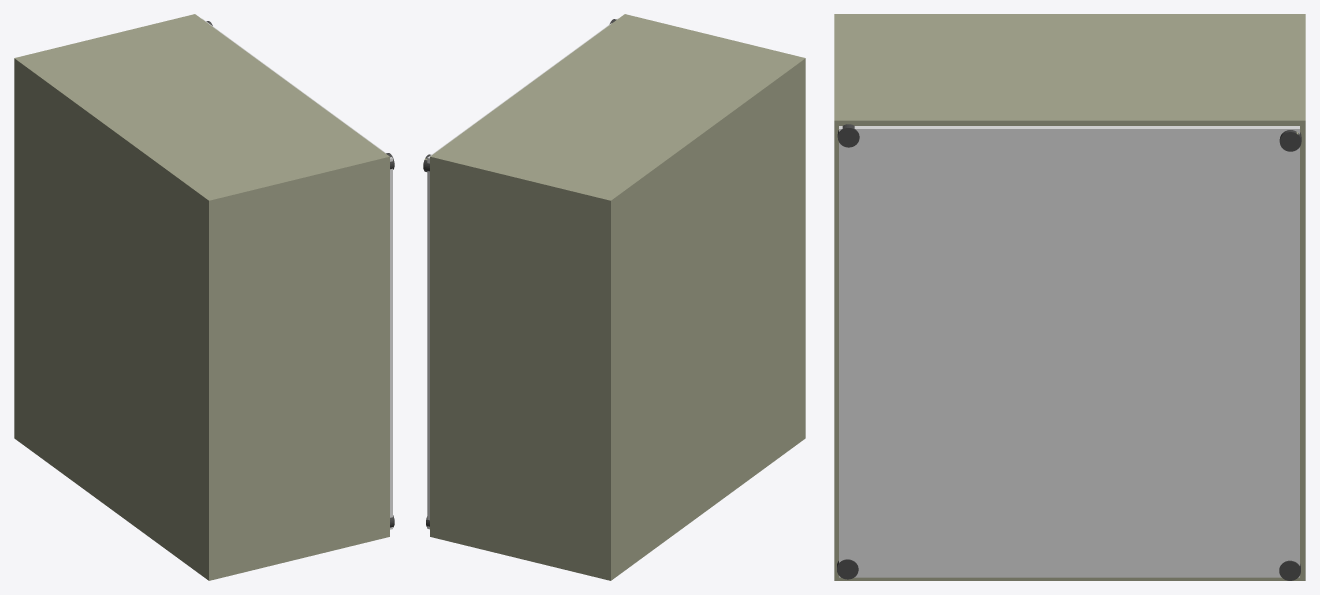
The model's file is skrzyneczka.fbx.
3 renders of one model, left to right at view 1: azimuth 30°, elevation 25°; view 2: azimuth 150°, elevation 25°; view 3: azimuth 270°, elevation 25°, orthographic. The views are drawn at different scales.
Visible parts, largest first — view 1: Cube, Cube.001; view 2: Cube, Cube.001; view 3: Cube.001, Cube.
Boxes of the visible parts, box(x1,y1,x2,y2) form: Cube: box(14, 14, 394, 580); Cube.001: box(202, 18, 392, 529); Cube: box(423, 14, 805, 580); Cube.001: box(427, 18, 618, 529); Cube.001: box(839, 126, 1299, 577); Cube: box(834, 14, 1305, 580).
Size of the model in its own units: 181 by 346 by 322.
